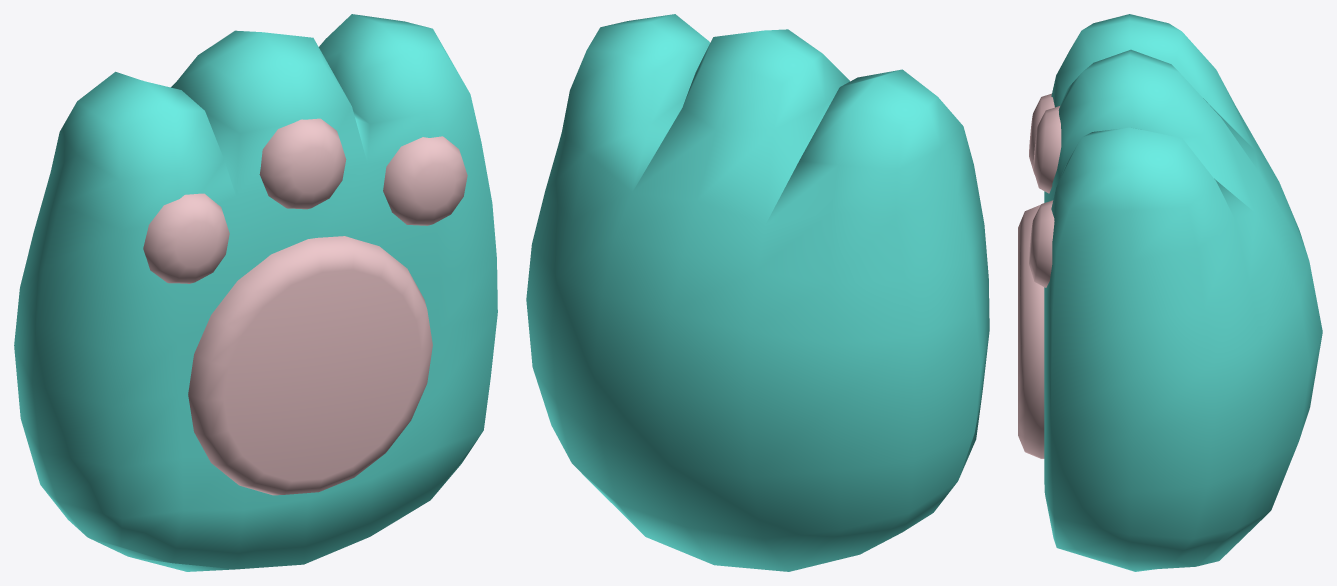
The model's file is Hand.fbx.
3 renders of one model, left to right at view 1: azimuth 30°, elevation 25°; view 2: azimuth 150°, elevation 25°; view 3: azimuth 270°, elevation 25°, orthographic. The views are drawn at different scales.
Visible parts, largest first — view 1: Paw; view 2: Paw; view 3: Paw.
Part boxes in pixels (x1,y1,x2,y2): Paw: (14, 14, 497, 571); Paw: (526, 14, 989, 571); Paw: (1018, 14, 1322, 571).
Bounding box in the file's own units: 12.33 × 13.85 × 7.73.
